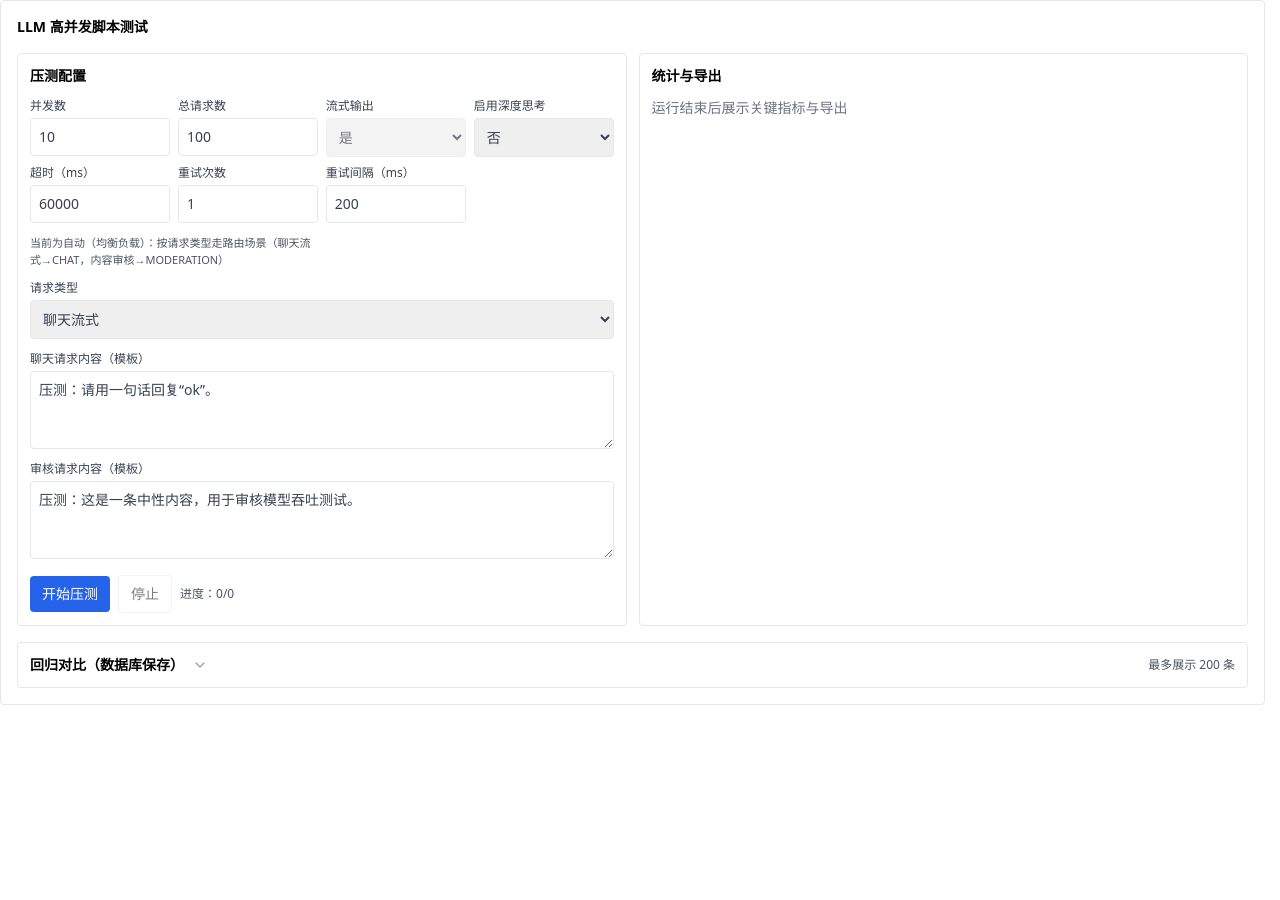
Test: LlmLoadTestPanel › shows empty history when expanded and no stored runs
What coordinates should you click on to do the following:
click the text "回归对比（数据库保存）"
I would click on:
 (107, 665)
Its box is [30,655,184,675].
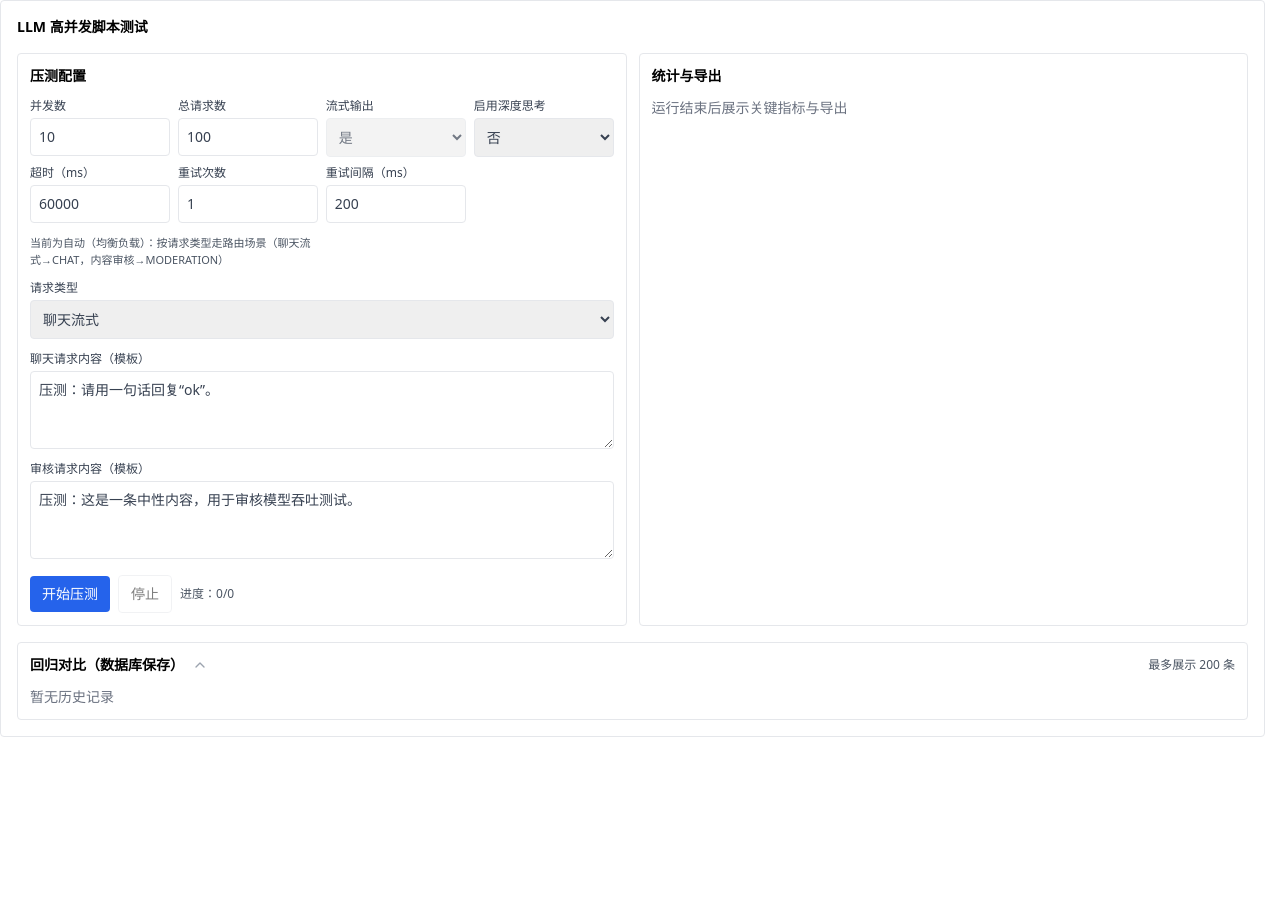
Expected: the text "暂无历史记录" is shown, [30,687,114,706]
